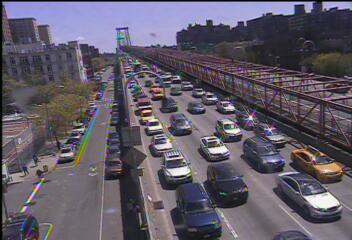neg: (56, 155, 81, 189), (300, 36, 315, 55), (6, 52, 20, 71), (46, 39, 58, 55), (226, 53, 237, 68), (4, 176, 12, 187)
pos: (17, 161, 32, 181), (28, 150, 42, 168), (31, 166, 44, 183)
